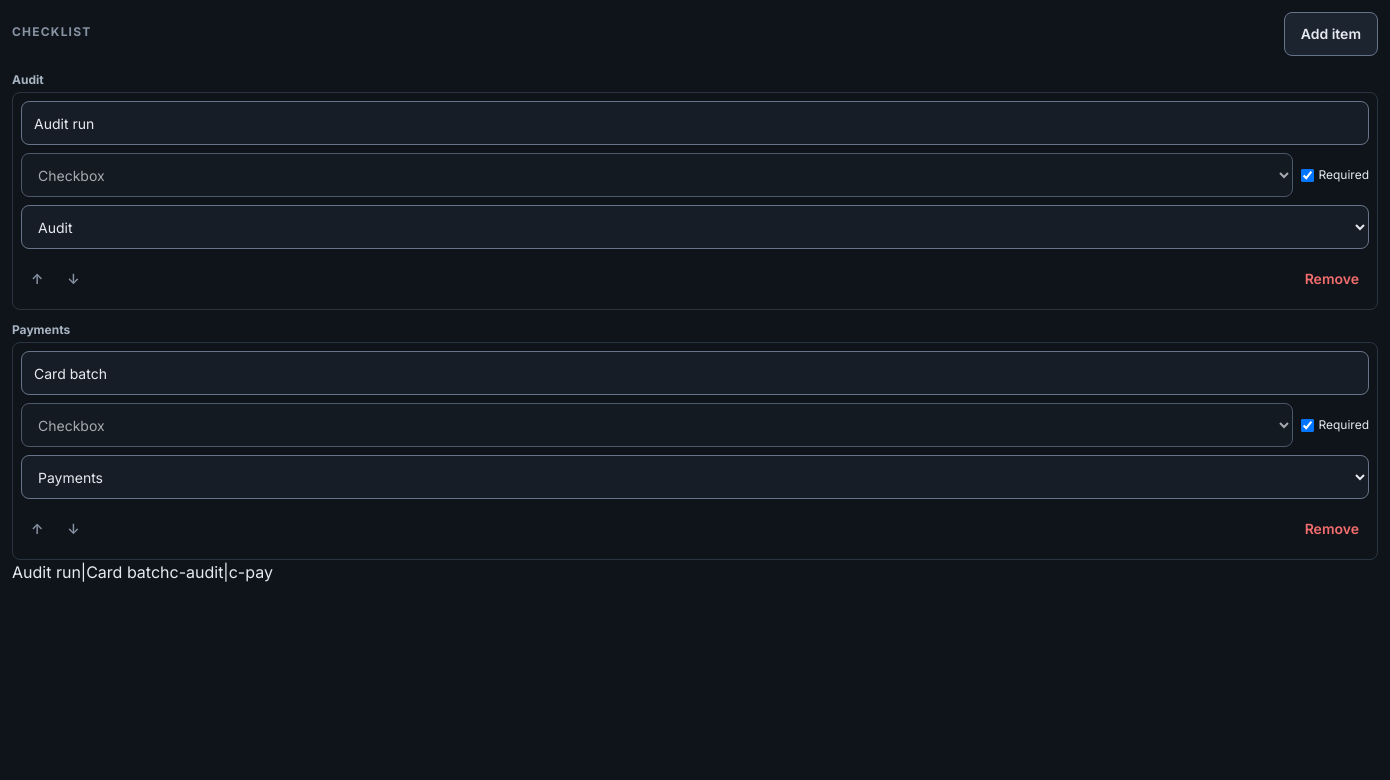
ItemListEditor › moves an item between categories with its select, and keeps moves inside a group
Step 1. Click the button named "Move item 2 up" → click(37, 529), box [21,507,53,551]
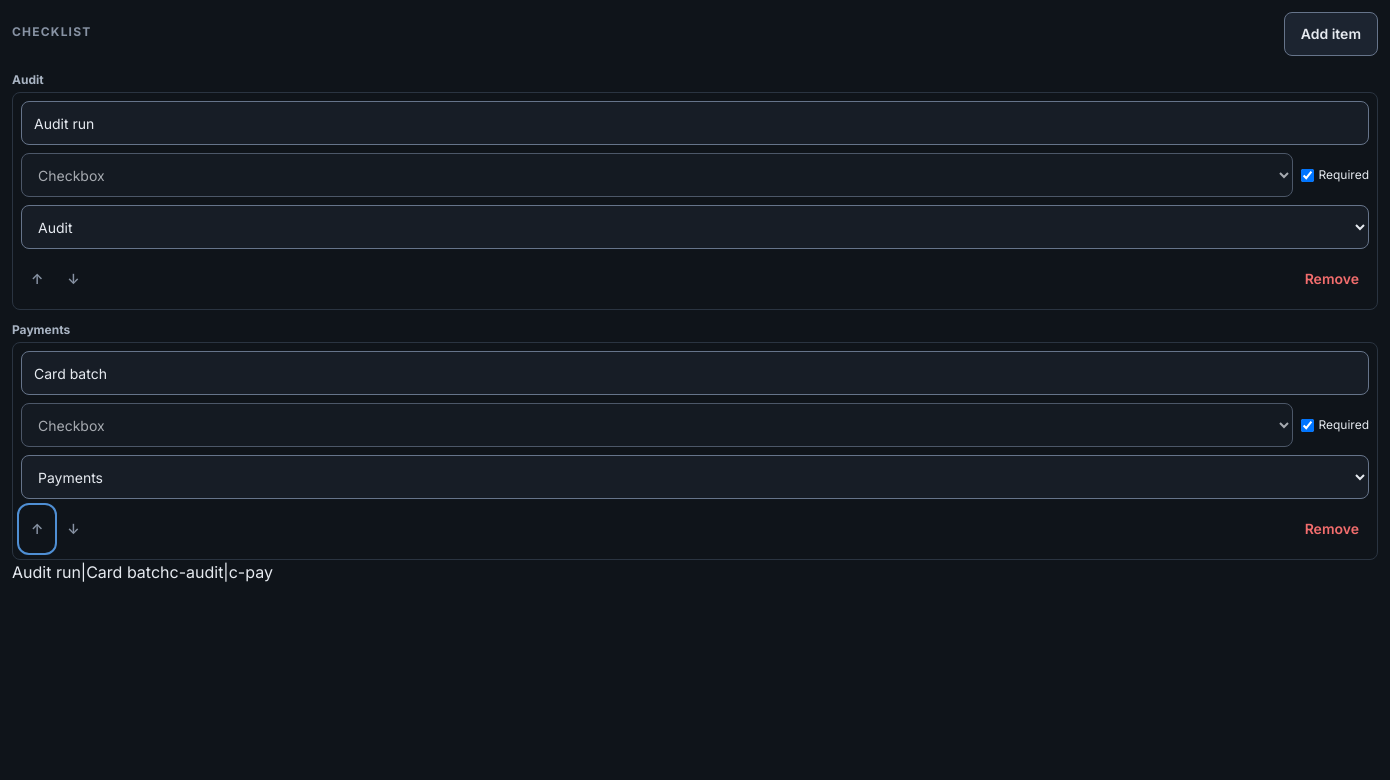
Expected: the text with test id "labels" reads "Audit run|Card batch", [12,562,170,582]
Step 2. Select "Audit" in the dropdown named "Category for item 2" → (695, 477), box [21,455,1369,499]
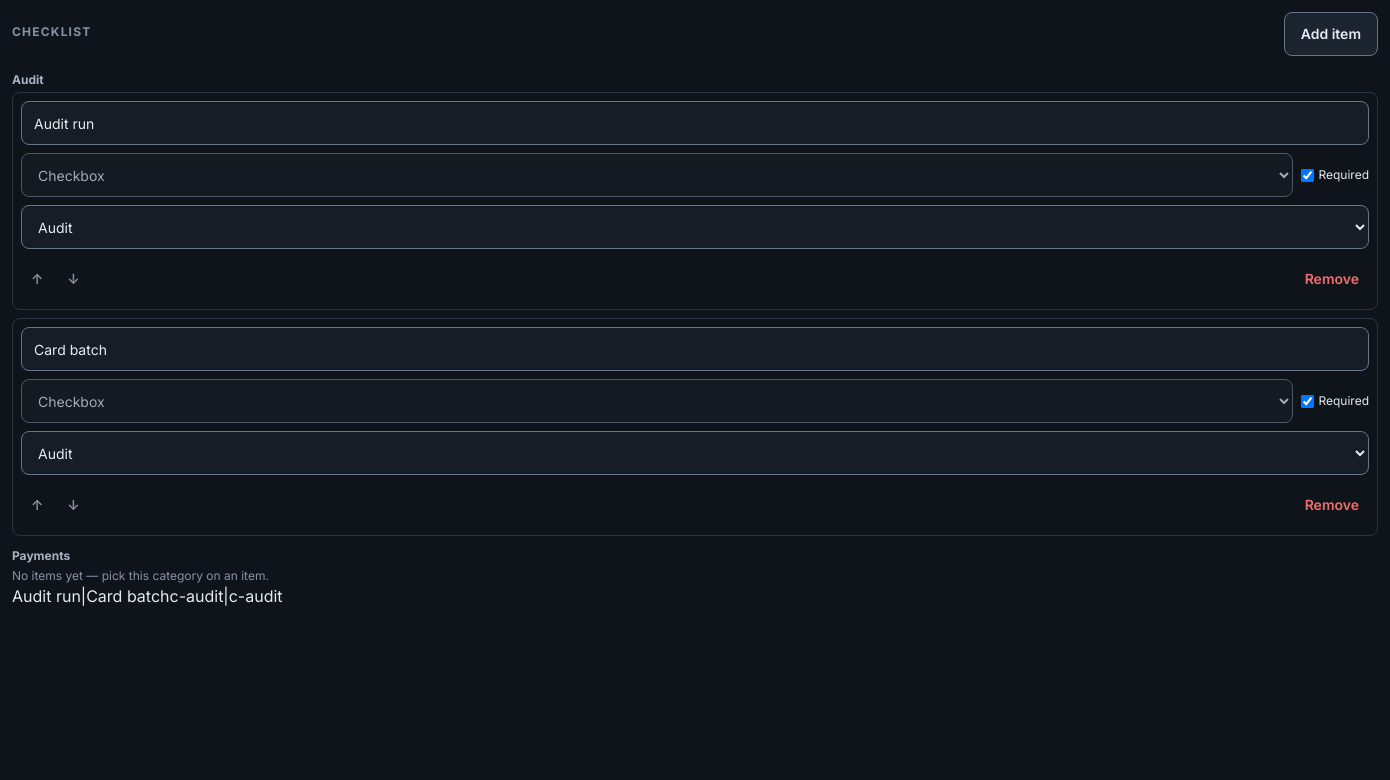
Now the text with test id "groups" reads "c-audit|c-audit", box [170,586,282,606]
Step 3. Click the button named "Move item 2 up" → click(37, 505), box [21,483,53,527]
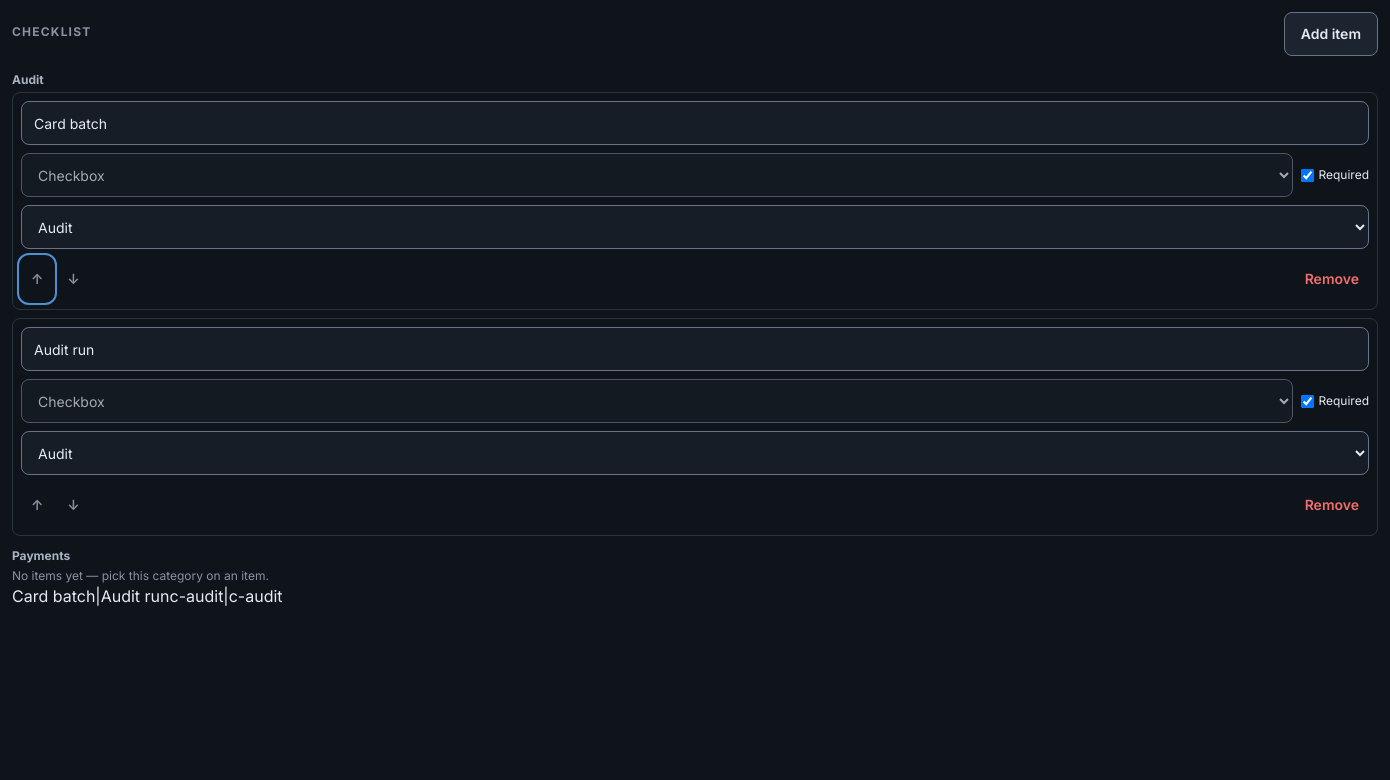
Now the text with test id "labels" reads "Card batch|Audit run", box [12,586,170,606]
Step 4. Select "None" in the dropdown named "Category for item 1" → (695, 227), box [21,205,1369,249]
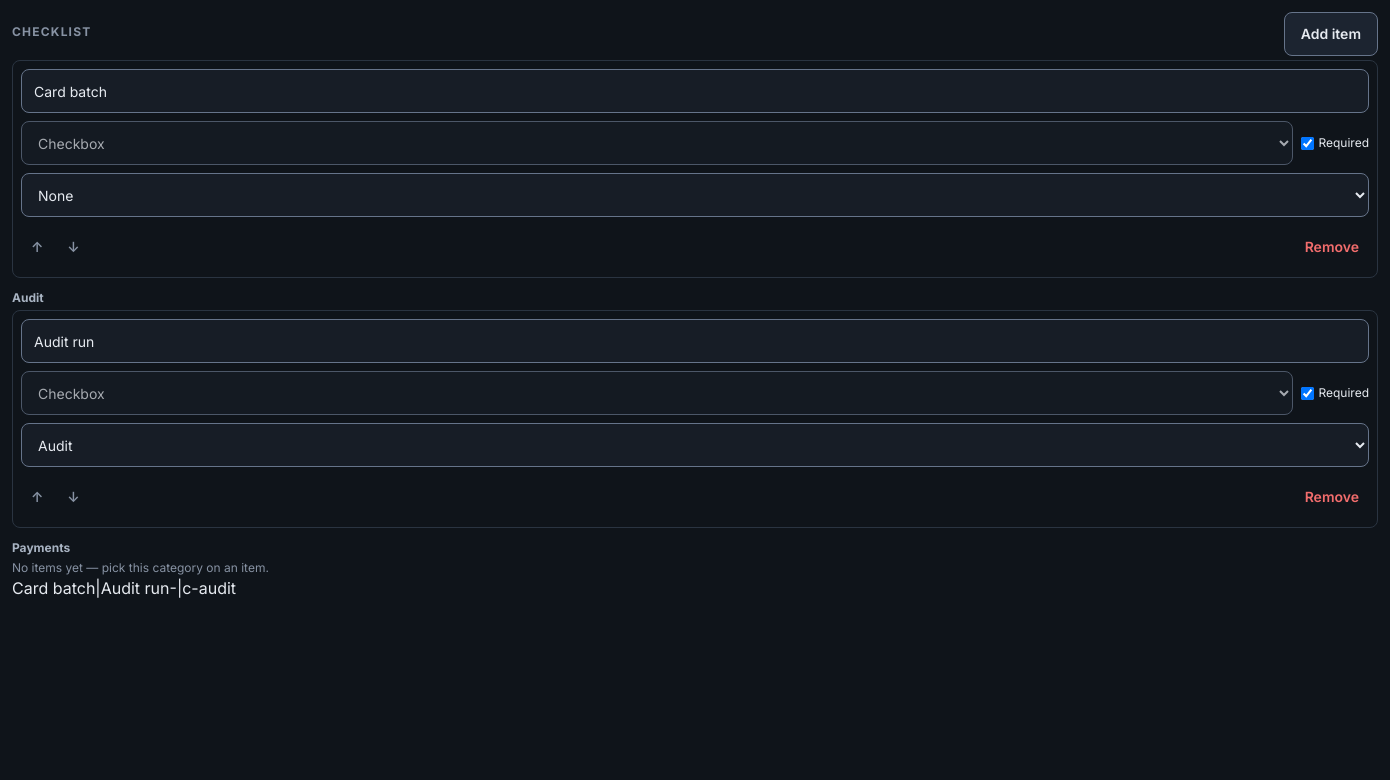
Now the text with test id "groups" reads "-|c-audit", box [170,578,236,598]
